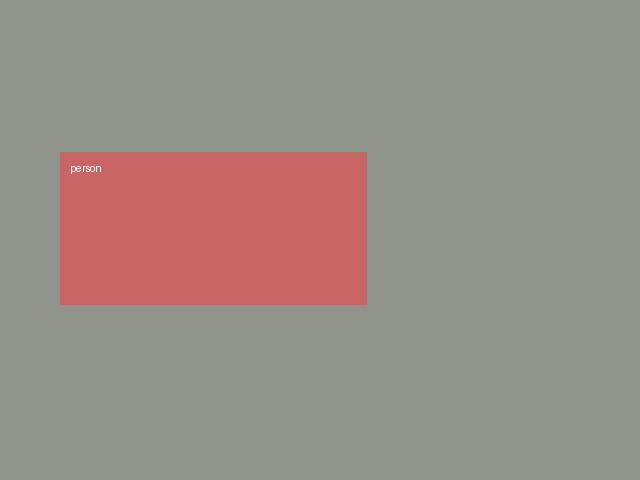person: (60, 152, 366, 304)
